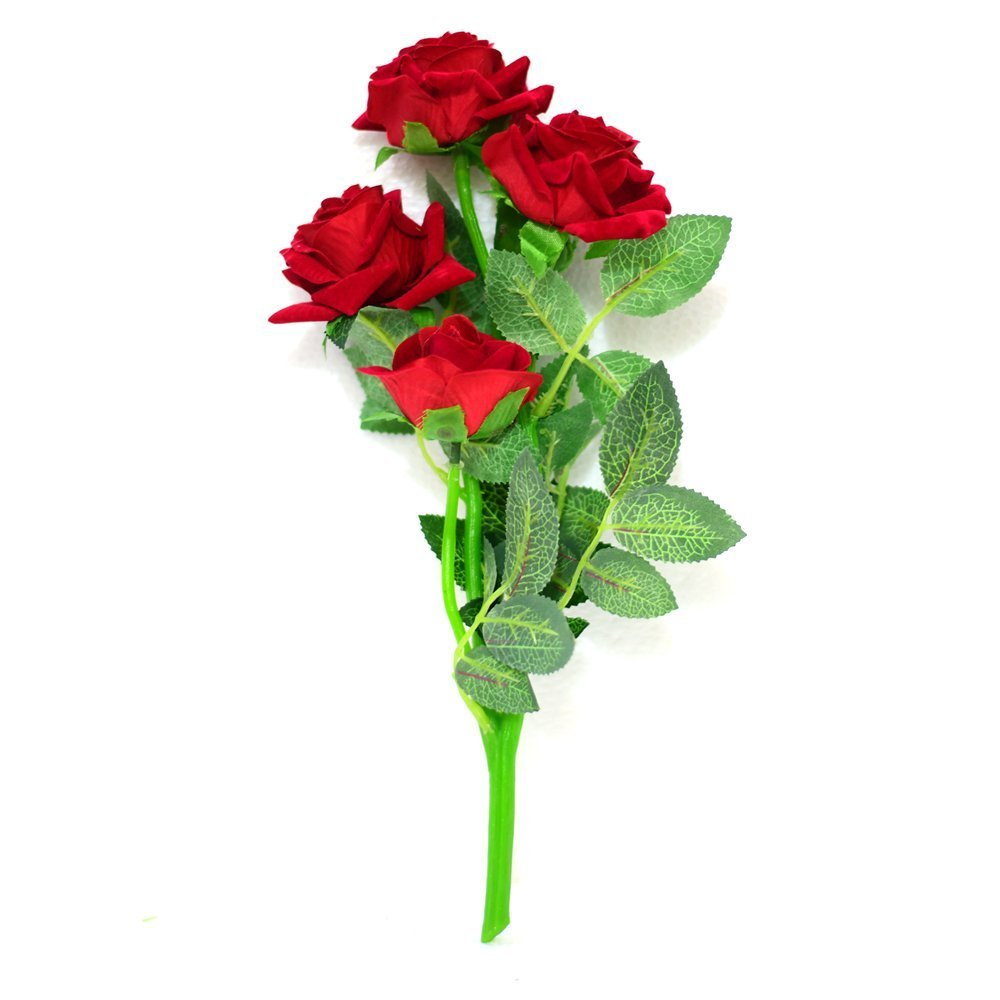rose: (267, 167, 476, 327), (491, 96, 677, 256), (351, 30, 554, 162), (365, 313, 554, 444)
